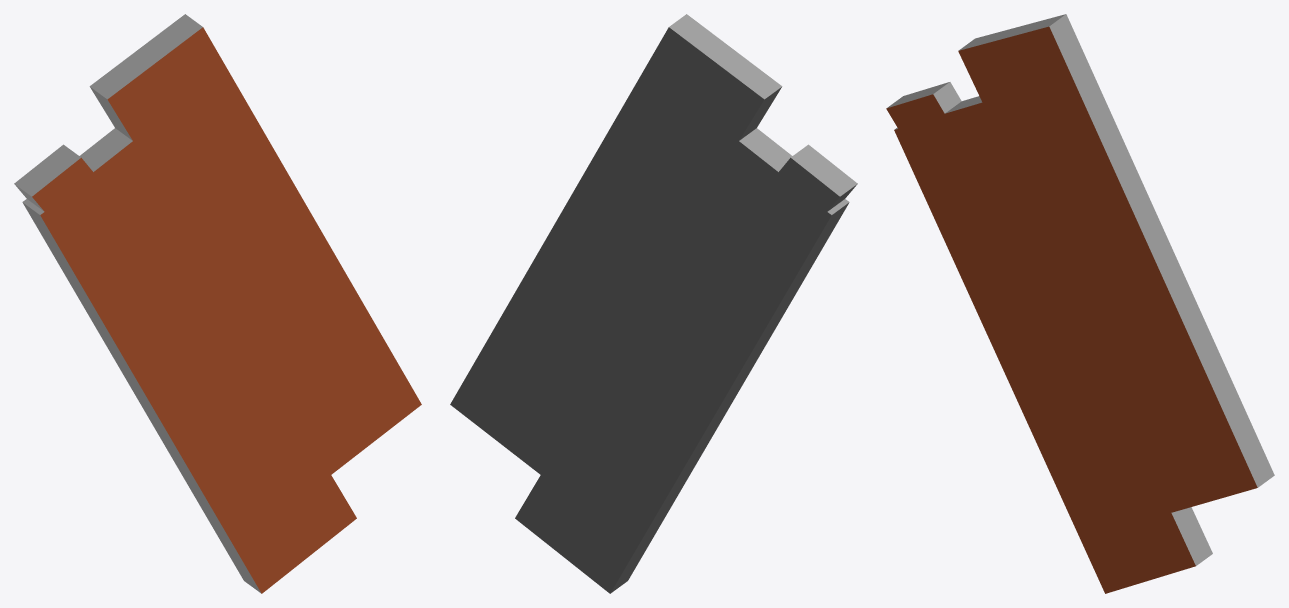
File: construction_0105_assumed_A_Grande_construcao_h6m.obj
3 views of the same model, side by side, from view 1: azimuth 30°, elevation 25°; view 2: azimuth 150°, elevation 25°; view 3: azimuth 330°, elevation 25° (orthographic). The views are drawn at different scales.
Visible parts, largest first — view 1: construction_0105_assumed_A_Grande_construcao; view 2: construction_0105_assumed_A_Grande_construcao; view 3: construction_0105_assumed_A_Grande_construcao.
Boxes of the visible parts, x1,y1,x2,y2 form: construction_0105_assumed_A_Grande_construcao: (14, 14, 421, 593); construction_0105_assumed_A_Grande_construcao: (450, 14, 857, 593); construction_0105_assumed_A_Grande_construcao: (886, 14, 1274, 593).
Bounding box in the file's own units: 75.53 × 108 × 6.
